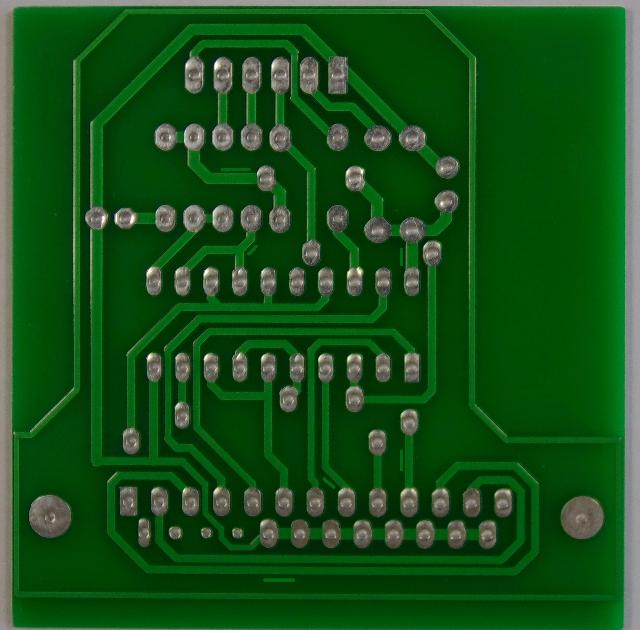spurious_copper: (259, 574, 299, 590), (392, 447, 410, 475), (218, 163, 252, 177), (316, 473, 338, 493), (394, 244, 408, 268), (243, 241, 260, 258)
